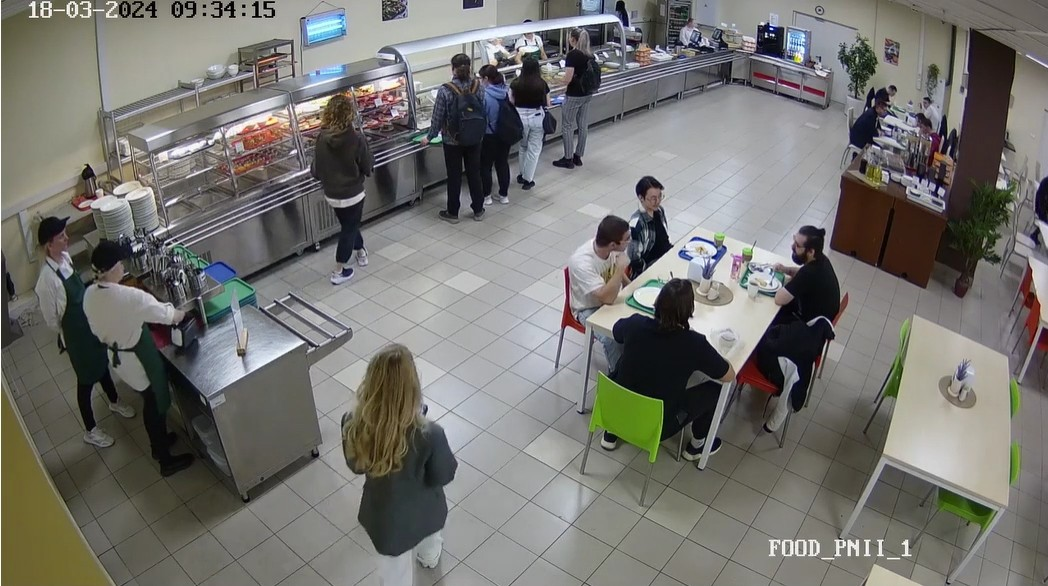Ne_v_Ocheredi: (326, 337, 466, 586)
Personal: (64, 225, 285, 508), (27, 209, 130, 448), (604, 0, 646, 45), (517, 16, 550, 50), (483, 22, 510, 62), (675, 16, 704, 48)
Vybiraet: (315, 94, 374, 283), (429, 57, 486, 221), (469, 64, 519, 208), (556, 23, 594, 171), (517, 56, 557, 196)
Za_Stolom: (575, 285, 725, 473), (546, 209, 641, 355), (770, 223, 849, 316), (640, 172, 690, 256), (848, 100, 890, 168), (864, 80, 905, 114), (910, 116, 946, 153), (916, 89, 944, 126)
